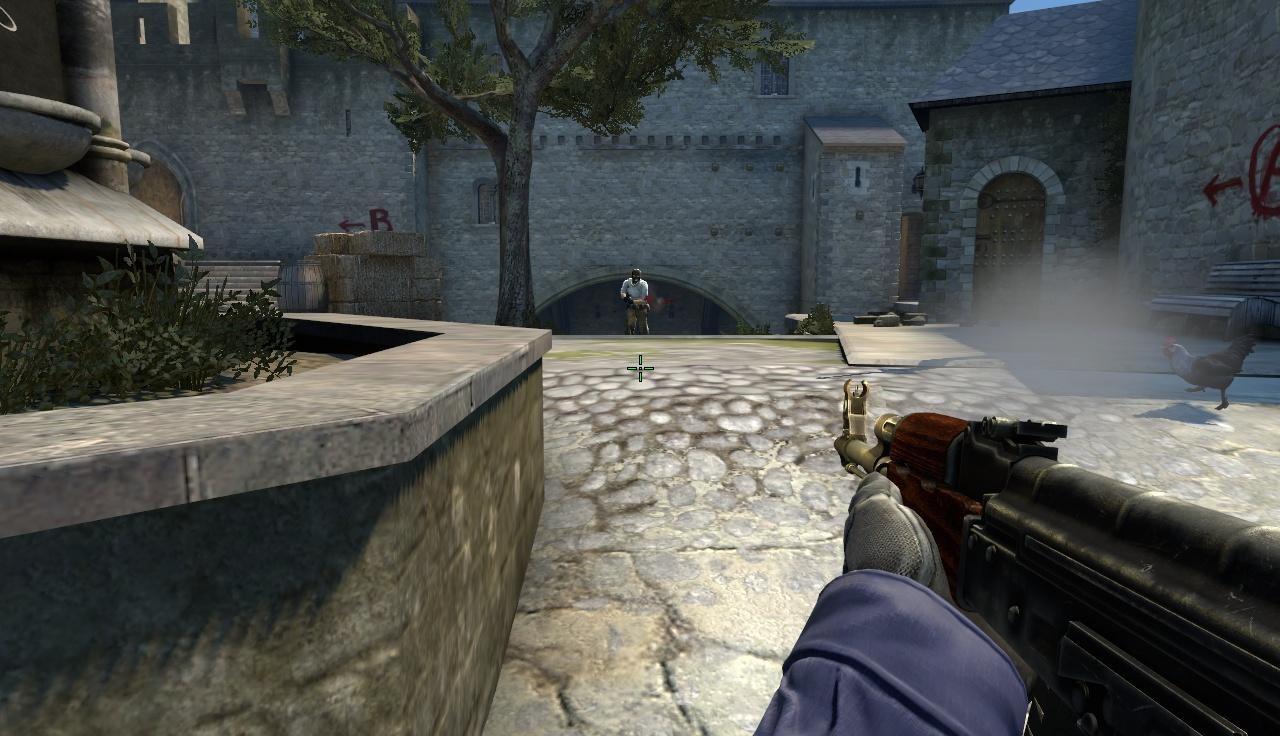rifle: (840, 374, 1280, 734)
tt: (621, 268, 651, 336)
tthead: (632, 269, 642, 283)
